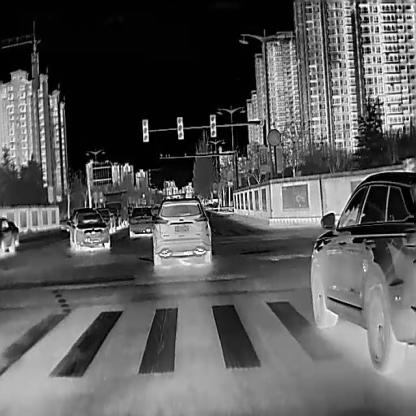car: (309, 167, 415, 376), (150, 194, 211, 264), (72, 208, 109, 249), (127, 204, 154, 236), (0, 216, 19, 258)
truck: (104, 190, 127, 224)
